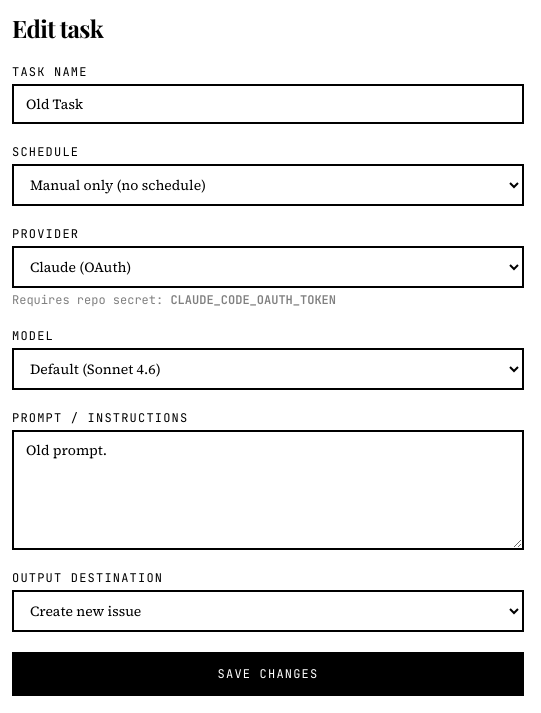
it: TaskForm › allows submit in edit mode when existingSlugs contains the own slug
The image size is (541, 713).
Submit without changing name — slug stays 'old-task', which is in existingSlugs
Select "Create new issue" in the dropdown labelled "Output destination" at coordinates (268, 611), box [12,590,524,632]
Click the button "Save changes" at coordinates (268, 674), box [12,652,524,696]
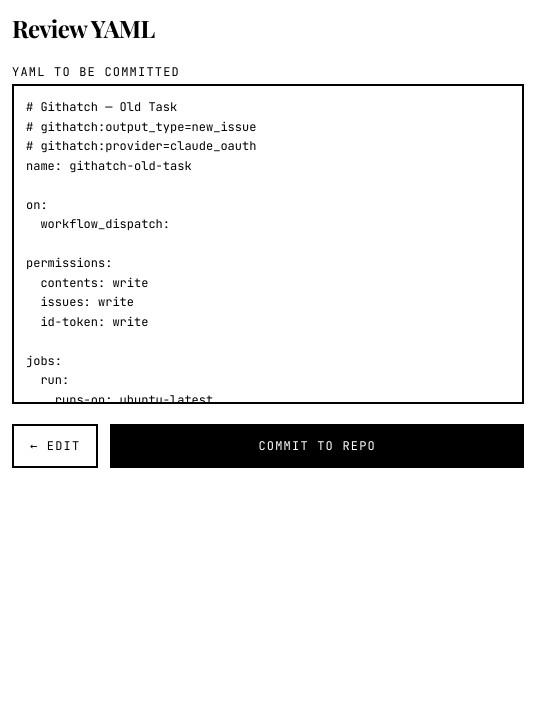
Expected: the text with test id "yaml-preview" is shown, [12,84,524,404]
